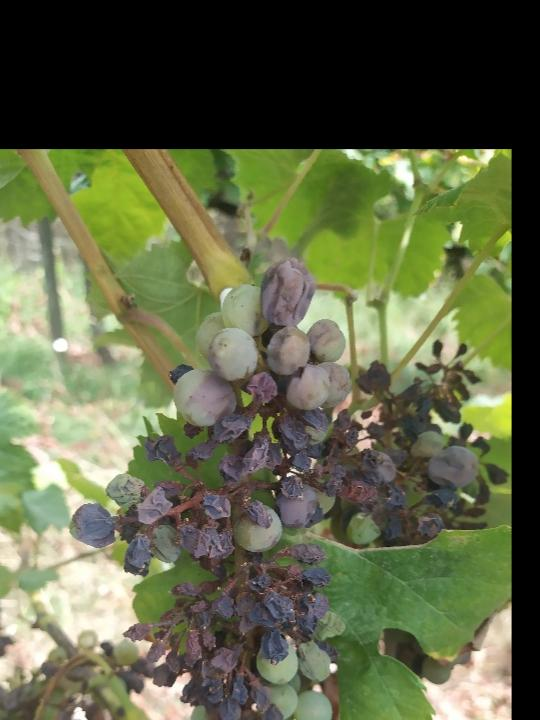grape: (66, 254, 398, 720)
